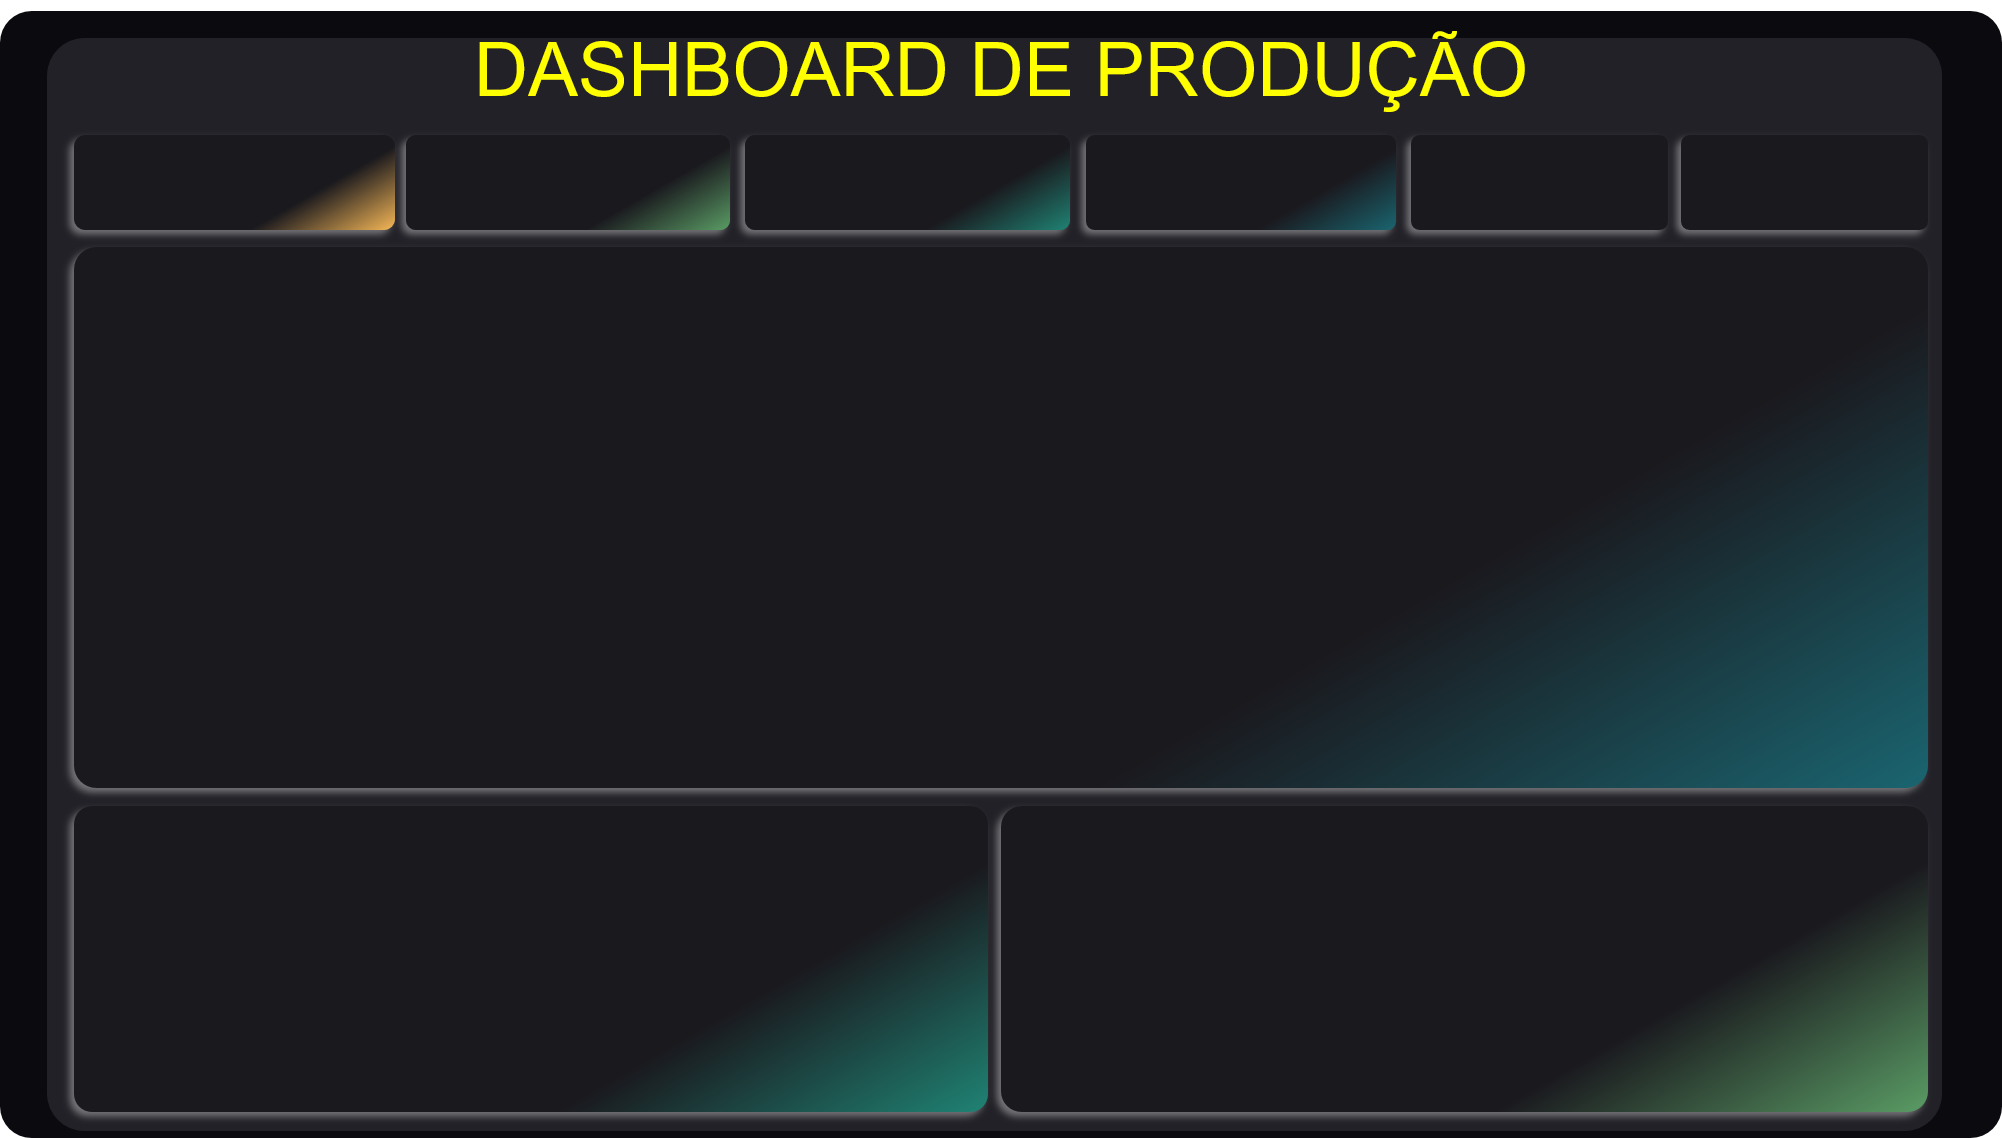

What the dashboard file says about the page in this screenshot:
{"tool":"powerbi","page":{"name":"Página 1","canvas":[1280,720],"ordinal":0},"visuals":[{"type":"cardVisual","fields":{"Data":["BaseProdução.Horas Trabalhadas"]},"box":[700.2,43.9,188,98.3],"z":0},{"type":"cardVisual","fields":{"Data":["BaseProdução.Total Aprovado"]},"box":[39.7,43.9,209.6,98.3],"z":1000},{"type":"cardVisual","fields":{"Data":["BaseProdução.Total Rejeitado"]},"box":[263.6,43.9,209.6,98.3],"z":2000},{"type":"cardVisual","fields":{"Data":["BaseProdução.Horas Produtivas"]},"box":[888.7,43.9,189.4,98.3],"z":2001},{"type":"cardVisual","fields":{"Data":["BaseProdução.Horas Paradas"]},"box":[473.4,43.9,209.8,97.8],"z":2002}]}

Visuals, with their boxes in screenshot pixels (x1, y1, x2, y2), scaled from the page's 1280x720 canvas onto the 2002x1138 screenshot:
cardVisual - BaseProdução.Horas Trabalhadas: crop(1095, 69, 1389, 225)
cardVisual - BaseProdução.Total Aprovado: crop(62, 69, 390, 225)
cardVisual - BaseProdução.Total Rejeitado: crop(412, 69, 740, 225)
cardVisual - BaseProdução.Horas Produtivas: crop(1390, 69, 1686, 225)
cardVisual - BaseProdução.Horas Paradas: crop(740, 69, 1069, 224)
